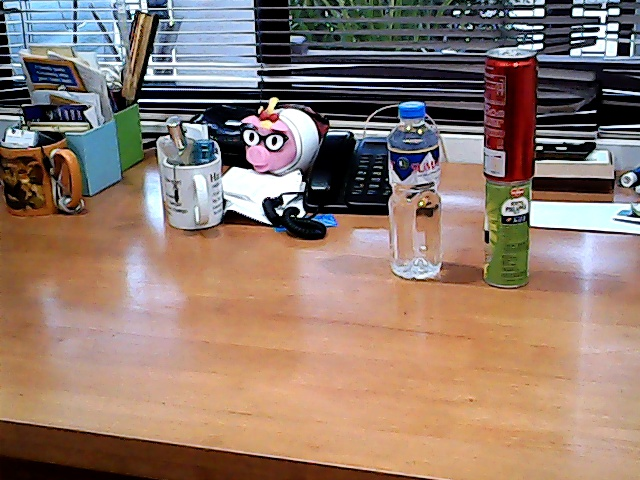Cola: (473, 44, 541, 181)
Pine Juice: (476, 177, 540, 294)
Summit Water: (377, 99, 451, 288)
